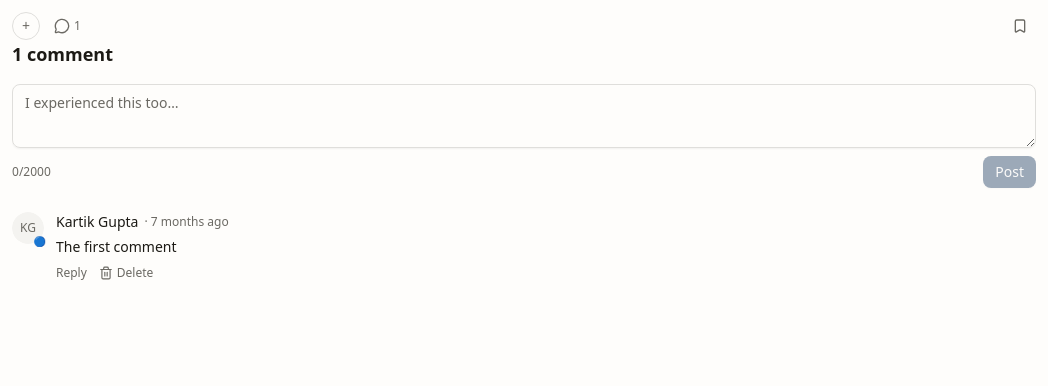
Test: CommentsSection canonical cache › publishes a created comment and count to every mounted consumer
Expected: the text "The first comment" is shown, [56, 237, 177, 256]
Type "A canonical update" into the text box named "Write a comment" at x=524, y=116, box [12, 84, 1036, 148]
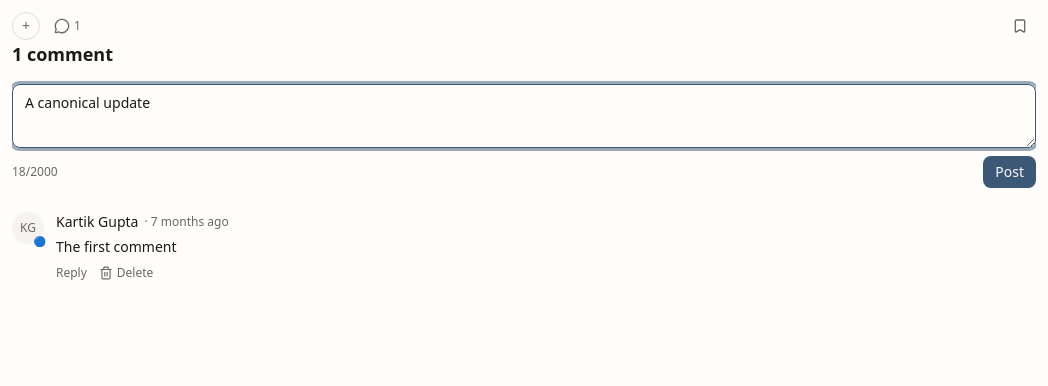
Click the button "Post" at x=1010, y=172, box [983, 156, 1036, 188]
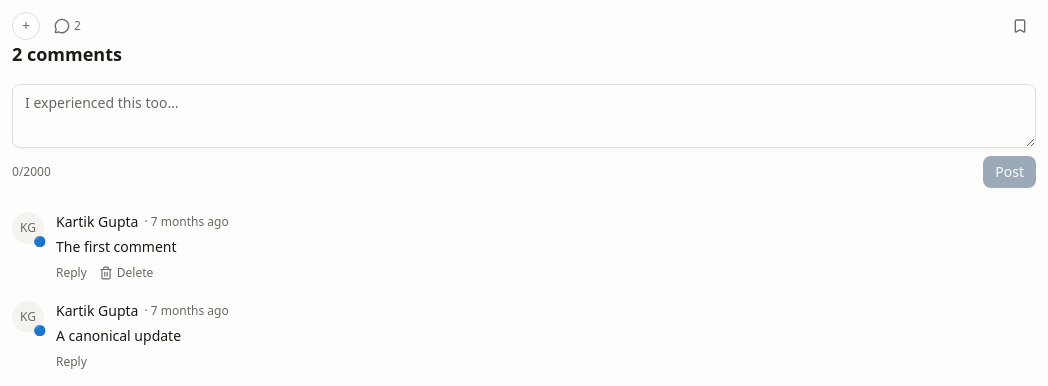
Expected: the text "A canonical update" is shown, [56, 326, 181, 345]
Expected: the heading "2 comments" is shown, [12, 42, 122, 66]
Expected: the link named "2 comments" is shown, [54, 17, 81, 34]
